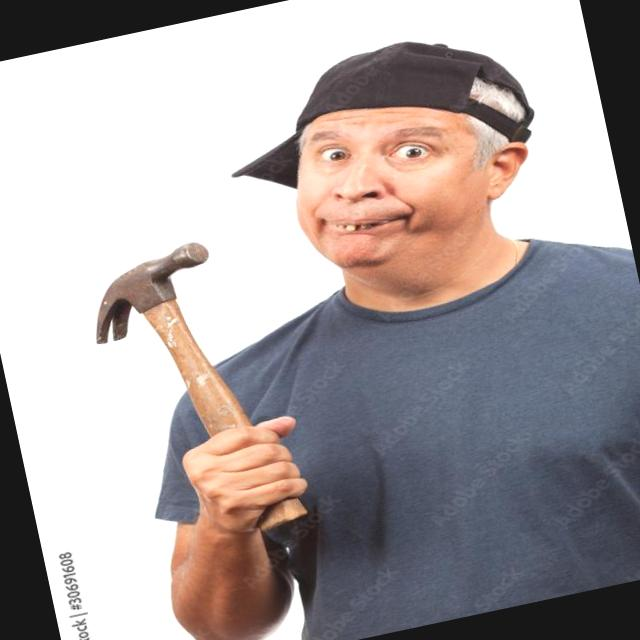hammer: (96, 242, 251, 433), (259, 498, 307, 530)
